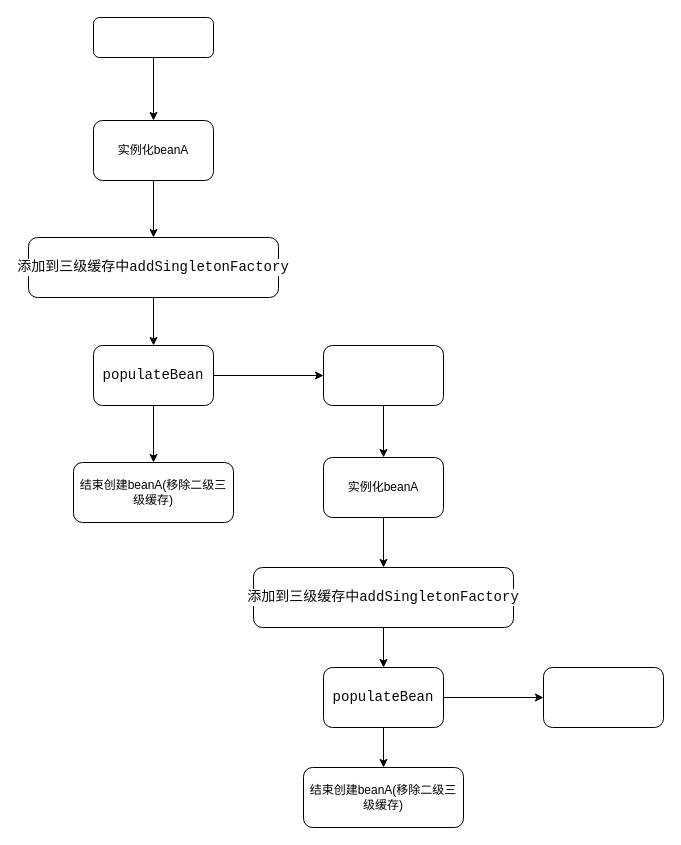
This 681x845 diagram has some shape labels left out. The shapes that lost their labels are listed below. From the top down, each one's centre as x and y in pixels, then its label:
At point 153,37: "创建beanA".
At point 383,375: "创建beanB".
At point 603,697: "三级缓存中getBean(A)".
